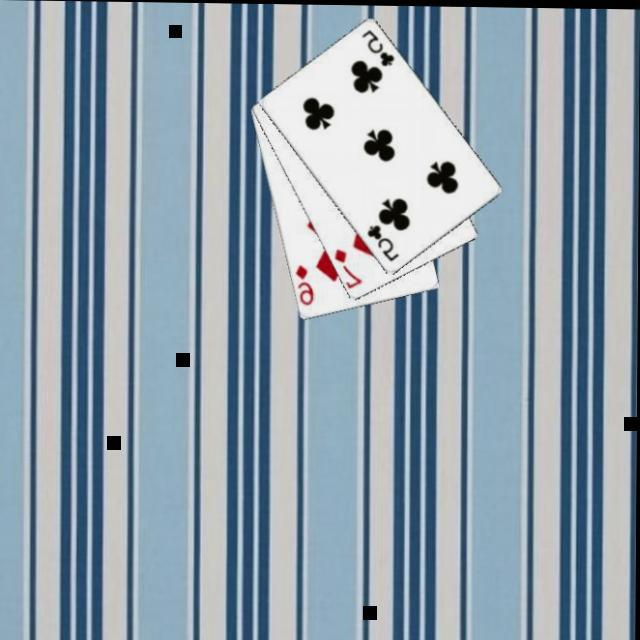5C: (363, 223, 401, 266), (358, 28, 396, 70)
7D: (330, 246, 365, 292)
9D: (292, 263, 316, 309)
